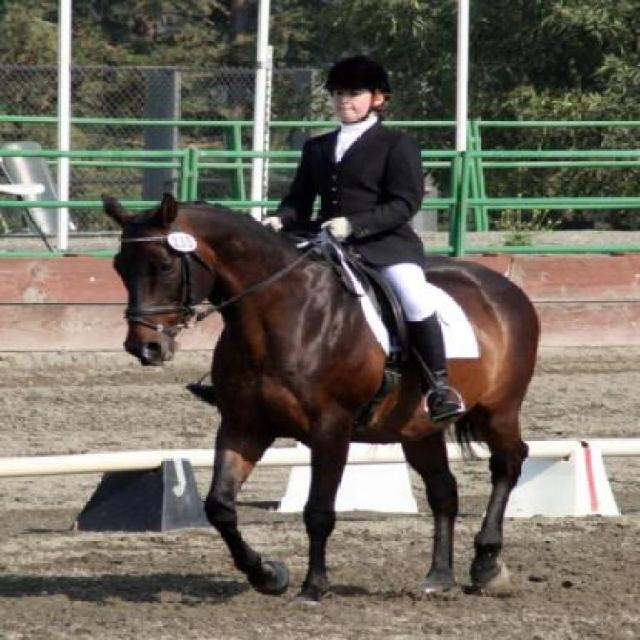obstacle: (183, 53, 469, 430)
